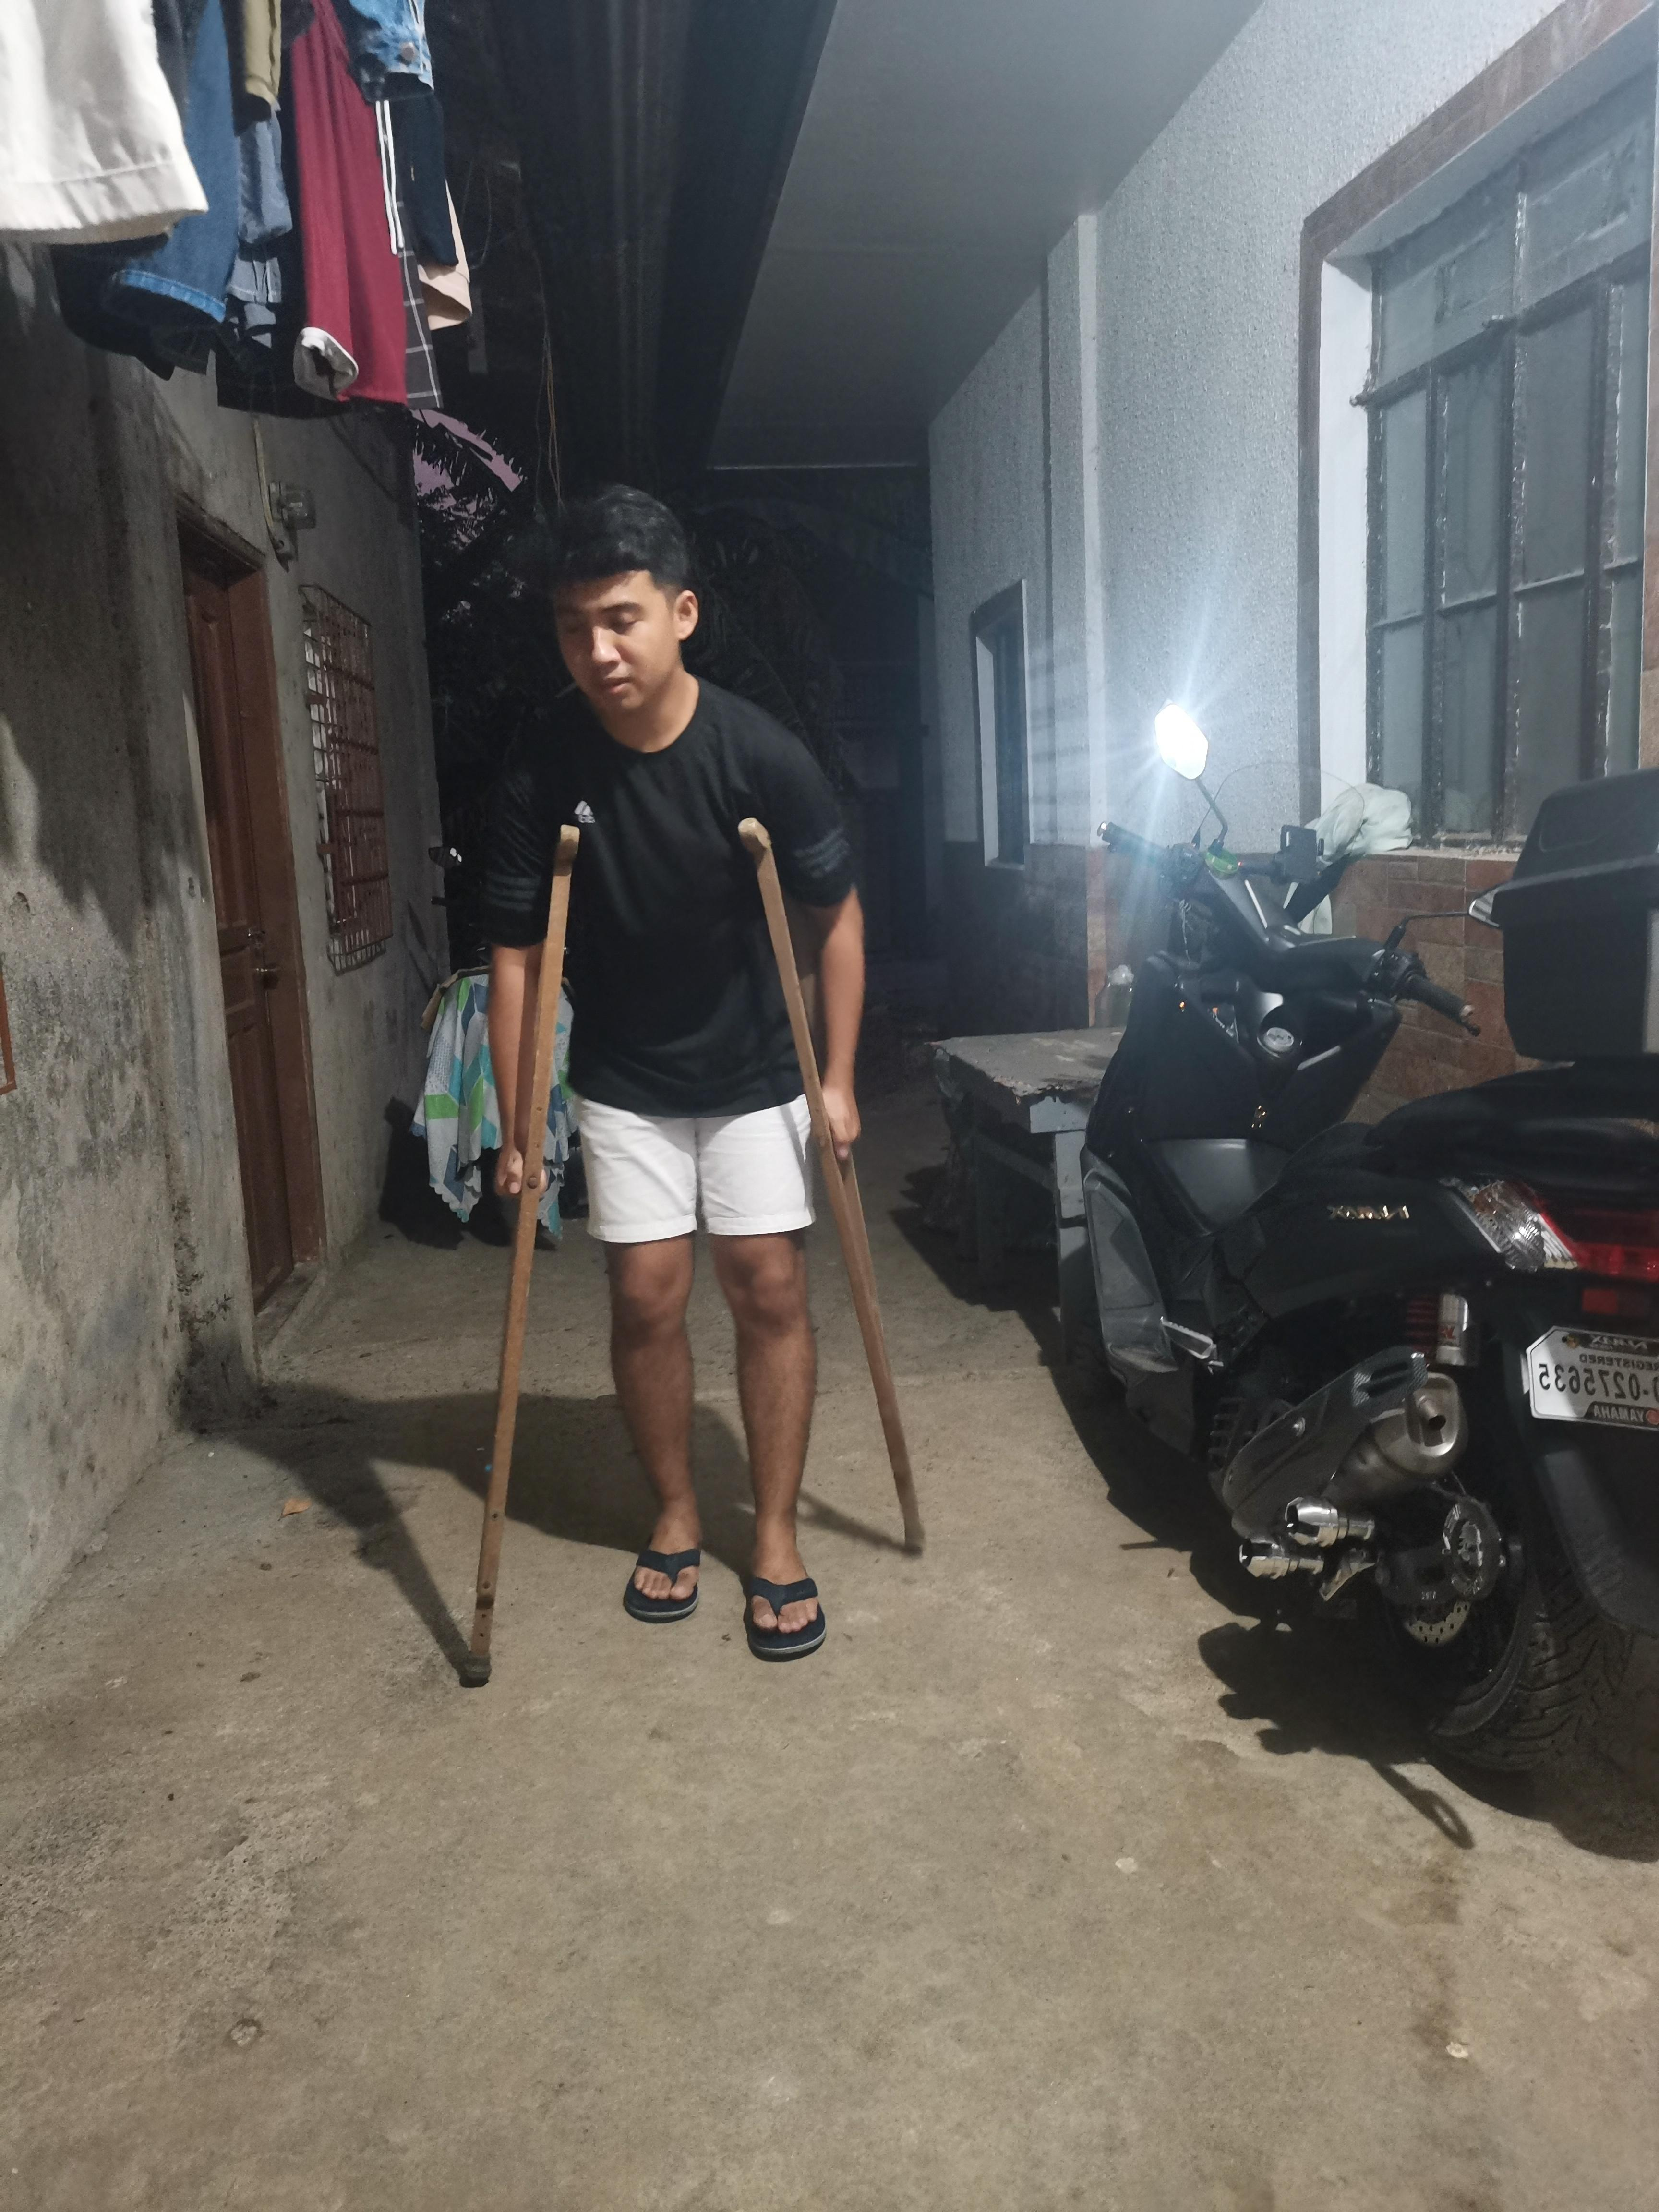crutches: (460, 477, 929, 1688)
